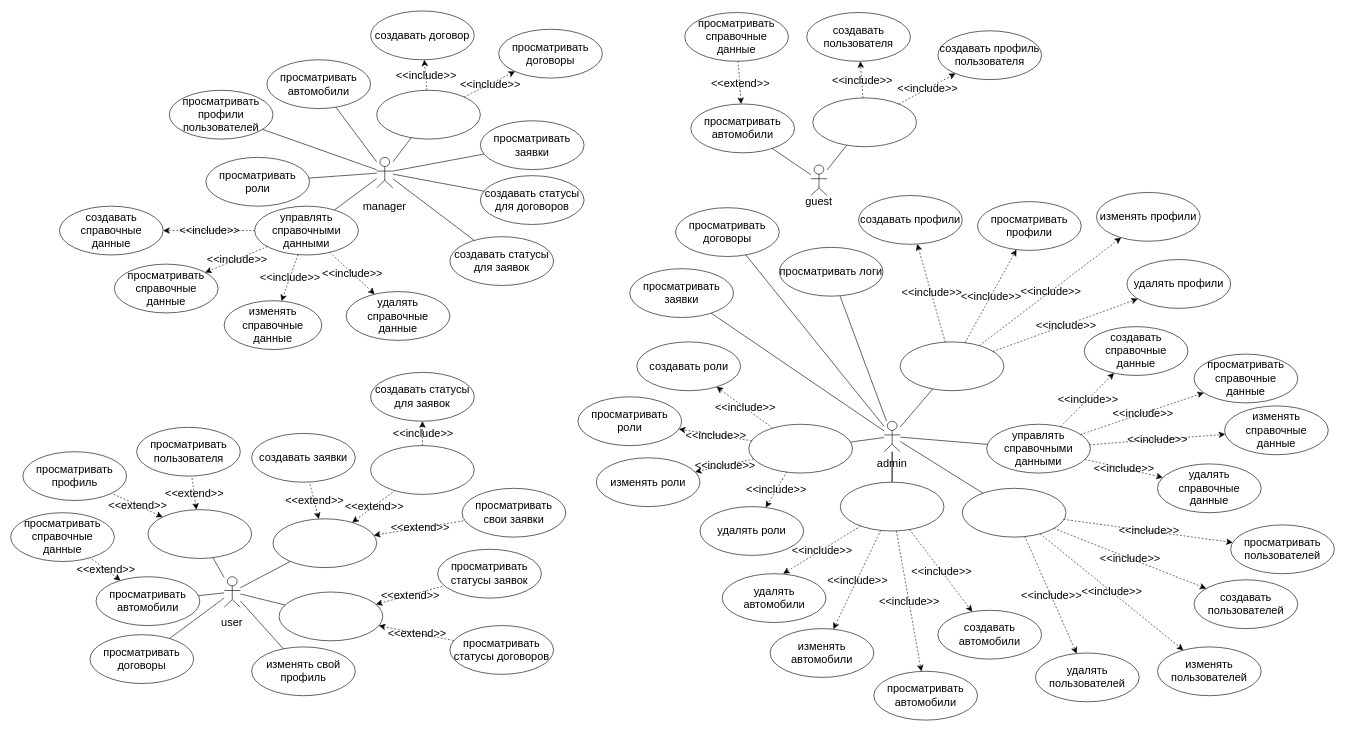
The diagram is 1345 pixels wide and 731 high, and some of its shapes have lost their labels. The box of each missing label's shape, as (x1, y1, x2, y2) in pixels:
отзывать заявки: (370, 445, 474, 494)
отслеживать статусы: (278, 591, 383, 641)
просмотреть информацию о себе: (147, 509, 252, 558)
создавать аккаунт: (812, 97, 917, 147)
управлять автомобилями: (840, 482, 944, 531)
управлять договорами: (376, 90, 480, 139)
управлять пользователями: (962, 488, 1066, 537)
управлять профилями: (900, 341, 1004, 391)
управлять ролями: (748, 424, 852, 473)
управлять своими заявками: (272, 518, 377, 568)
